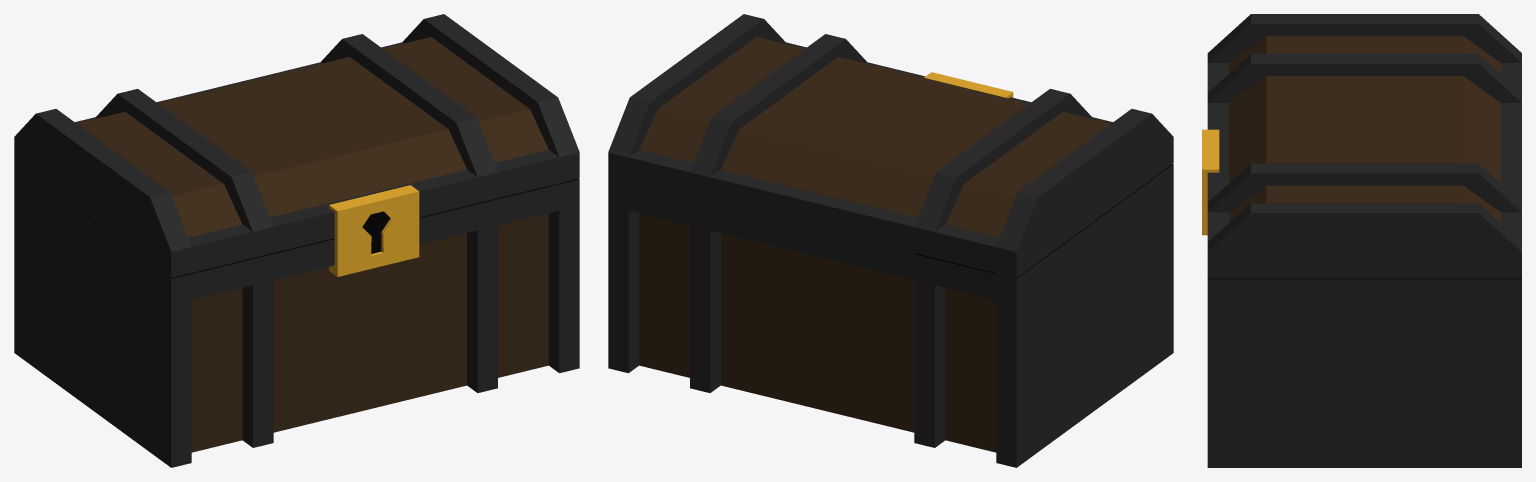
File: Loot_Chest.fbx
The picture shows the model from 3 angles, left to right: view 1: azimuth 30°, elevation 25°; view 2: azimuth 150°, elevation 25°; view 3: azimuth 270°, elevation 25°; orthographic projection.
Parts seen in each view (by area): view 1: polySurface1, polySurface2; view 2: polySurface1, polySurface2; view 3: polySurface1, polySurface2.
Boxes of the visible parts, x1,y1,x2,y2 form: polySurface1: (14, 14, 579, 467); polySurface2: (329, 185, 419, 276); polySurface1: (608, 14, 1173, 467); polySurface2: (924, 72, 1013, 98); polySurface1: (1207, 14, 1521, 467); polySurface2: (1202, 129, 1219, 235).
Size of the model in its own units: 20 by 11.94 by 13.58.
Materials: 2 (2 with a texture image).
